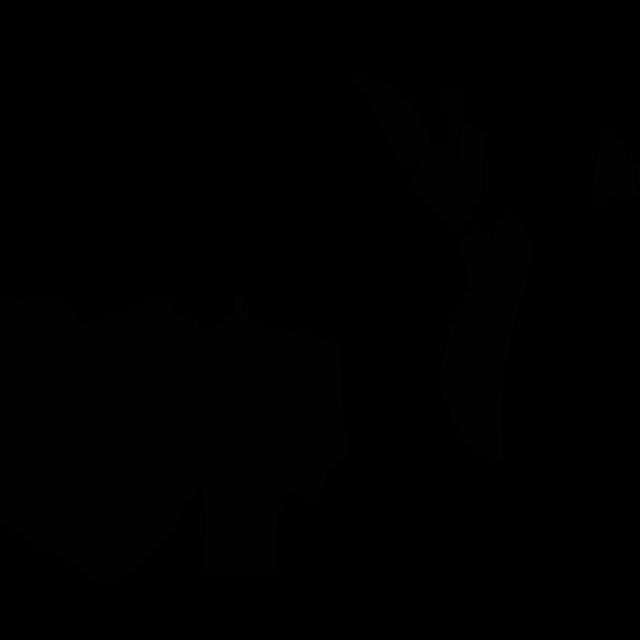cardboard: (0, 294, 228, 585), (177, 294, 346, 572), (440, 209, 533, 464), (351, 74, 450, 167), (413, 121, 486, 230), (592, 129, 638, 206)
rigid_plastic: (443, 84, 464, 151)
